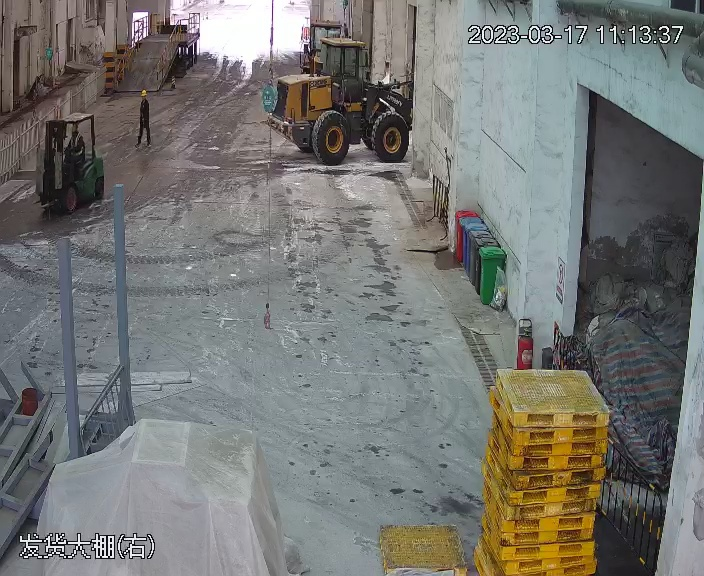head: (140, 89, 150, 113)
helmet: (140, 89, 148, 96)
people: (135, 88, 153, 148)
